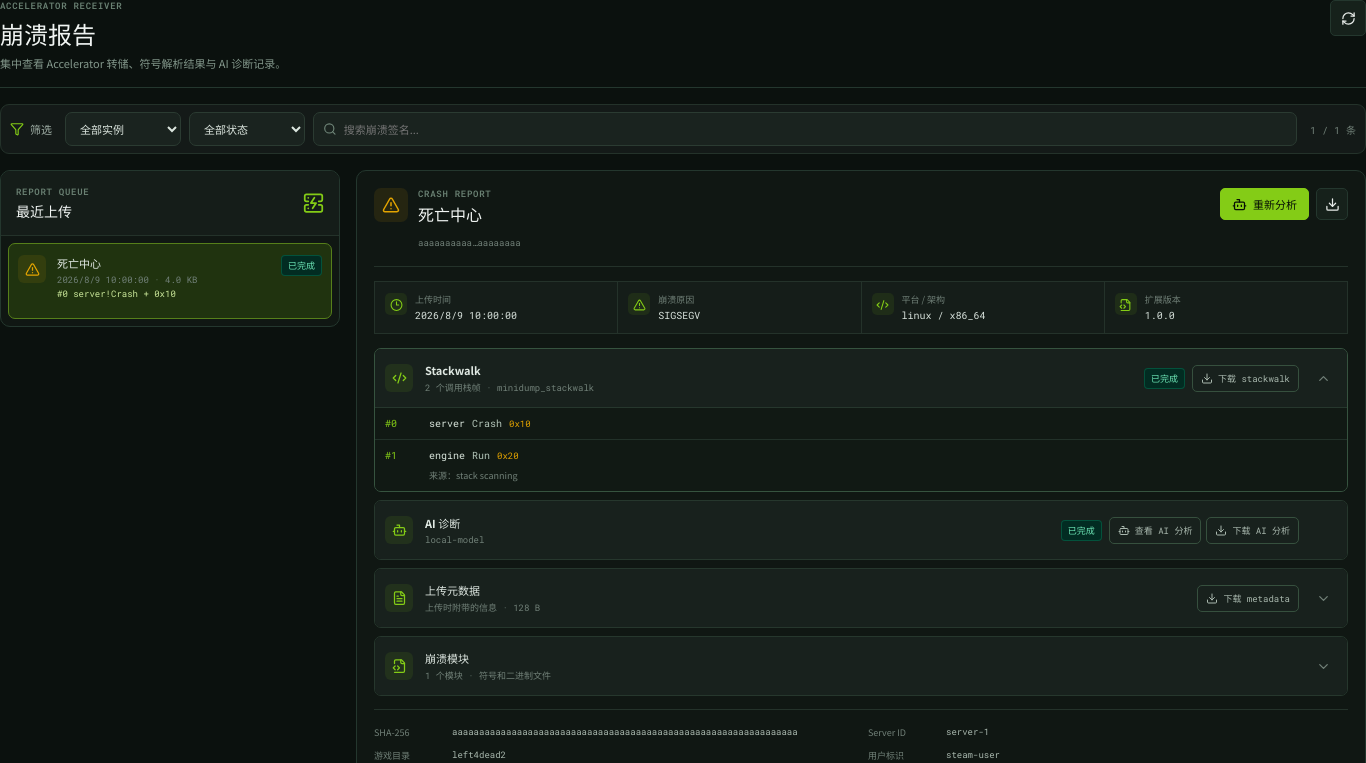
CrashReportsPage › loads reports, shows online diagnostics, and queues AI analysis
Expected: the heading "崩溃报告" is shown, [0,16,96,51]
Expected: the button "死亡中心 2026/8/9 10:00:00 · 4.0 KB #0 server!Crash + 0x10 已完成" is shown, [8,243,332,319]
Click the button named "展开上传元数据" at (1323, 598), box [1309,582,1337,614]
(page scrolled)
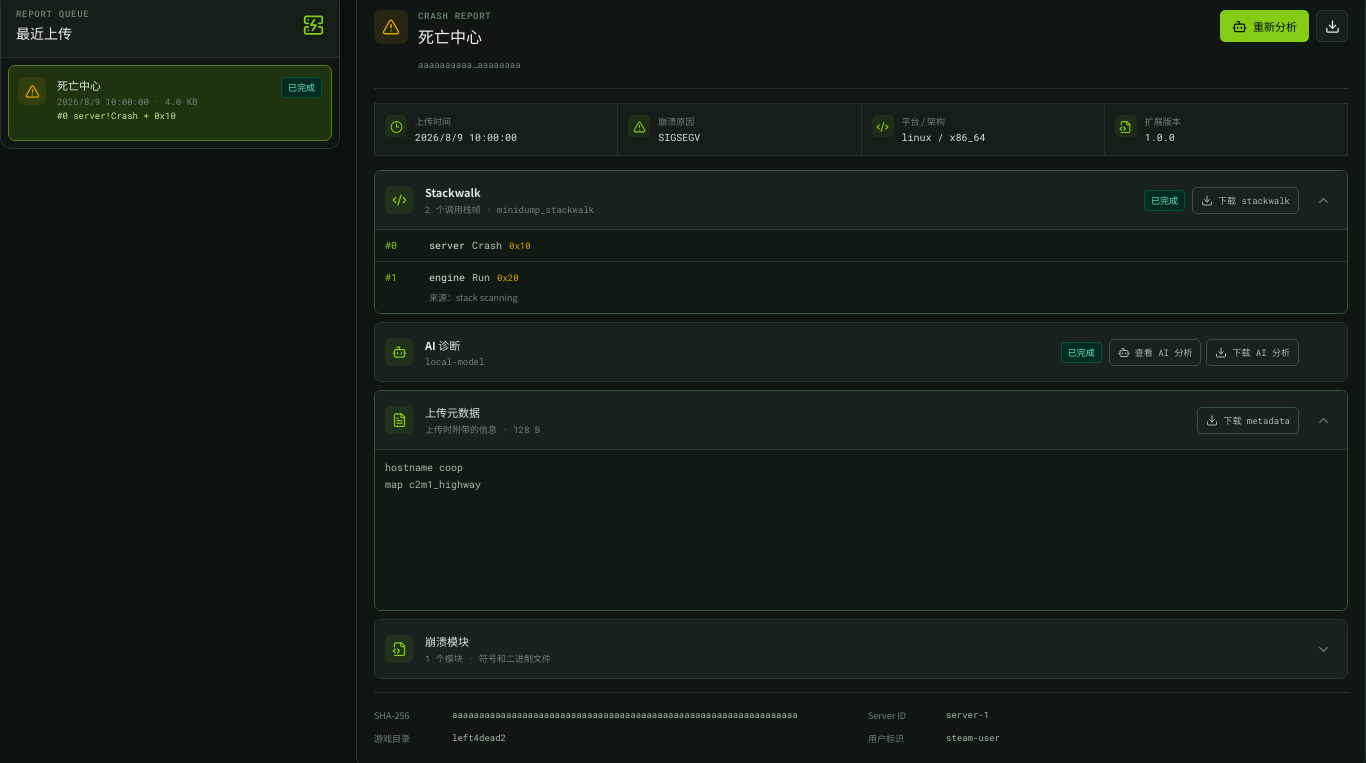
Expected: the text "hostname coop map c2m1_highway" is shown, [385,461,481,490]
Click the button named "展开崩溃模块" at (1323, 649), box [1309,633,1337,665]
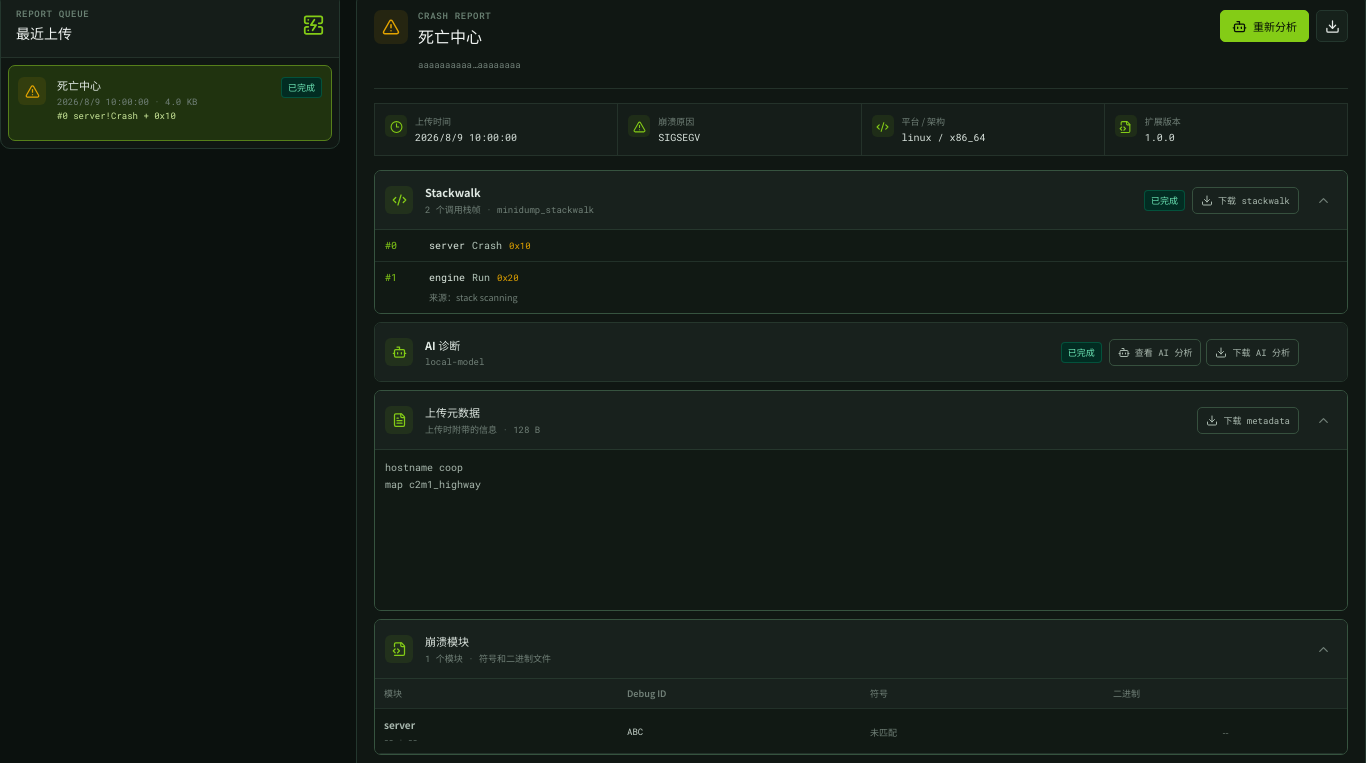
Expected: the button "查看 AI 分析" is shown, [1109,338,1201,366]
Expected: the table named "崩溃模块" is shown, [375,679,1347,754]
Click the button "重新分析" at (1264, 26), box [1220,10,1309,42]
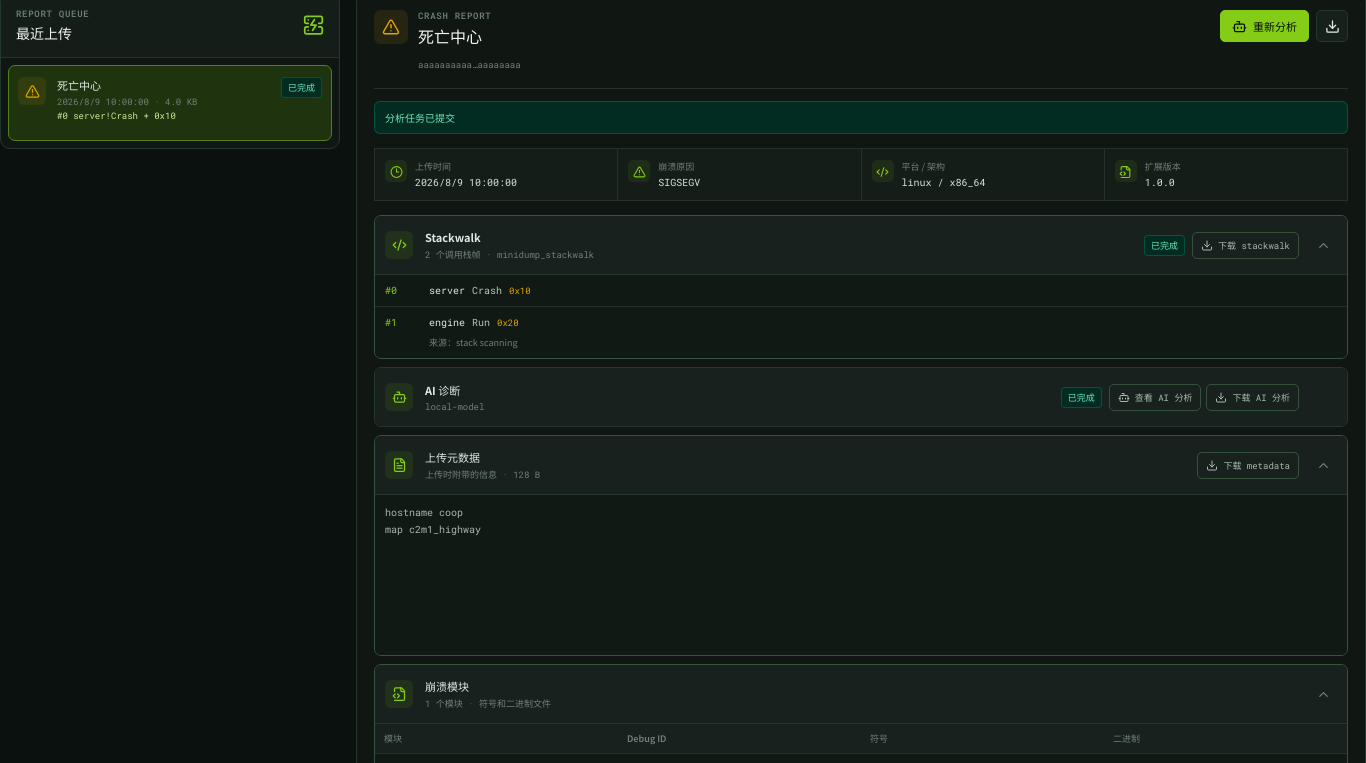
Expected: the text "分析任务已提交" is shown, [374,101,1348,134]
